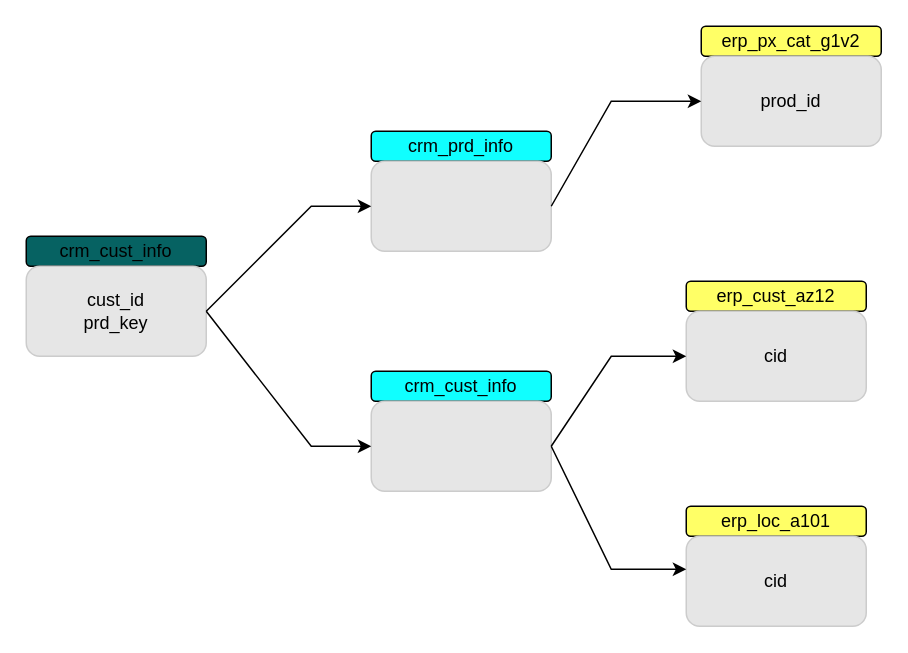
This 908x653 diagram has some shape labels left out. The centre of each missing label's shape, as x and y in pixels:
"cst_id" goes at point (460, 445).
"prd_id" goes at point (460, 205).
